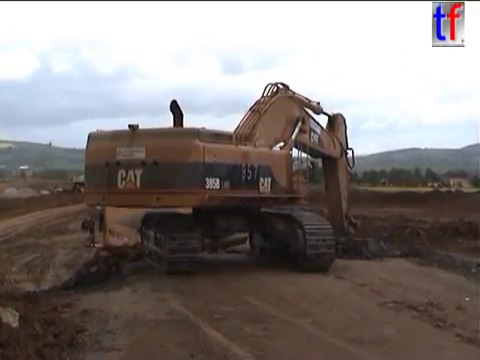excavator: (78, 79, 391, 273)
truck: (80, 201, 250, 280), (56, 181, 87, 199)
